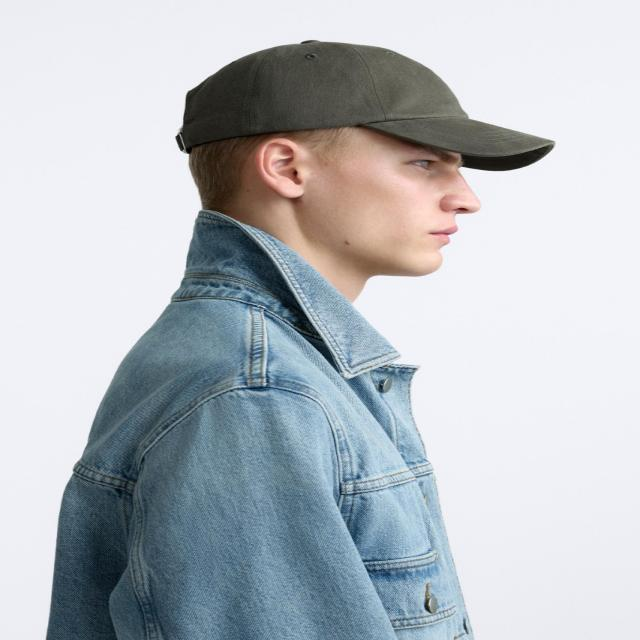Nonhelmet: (173, 38, 556, 288)
